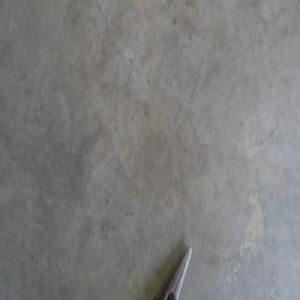Pliers: (161, 244, 191, 299)
